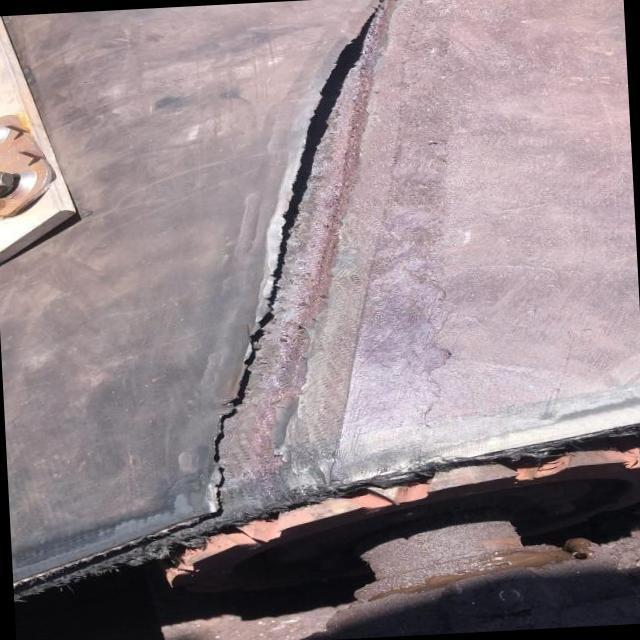Tear: (203, 0, 389, 530)
